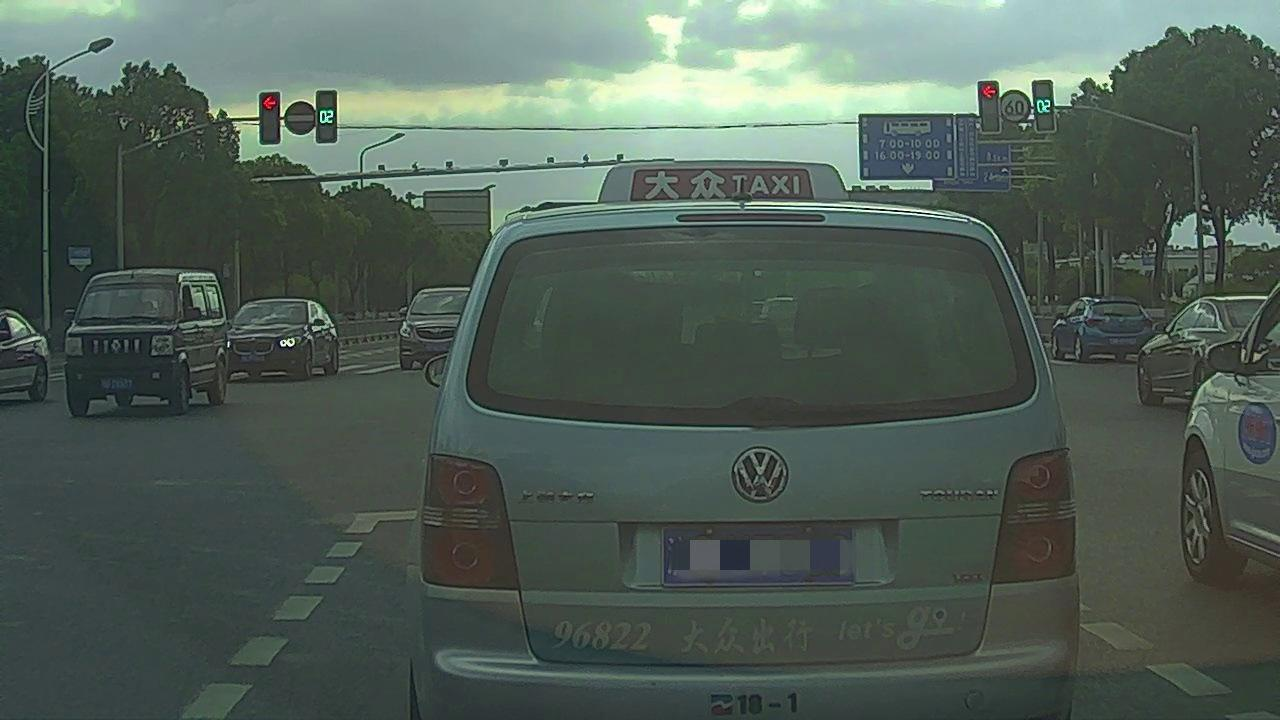traffic_light: (977, 81, 1000, 133), (1031, 80, 1054, 132), (315, 90, 337, 144), (258, 90, 279, 145)
